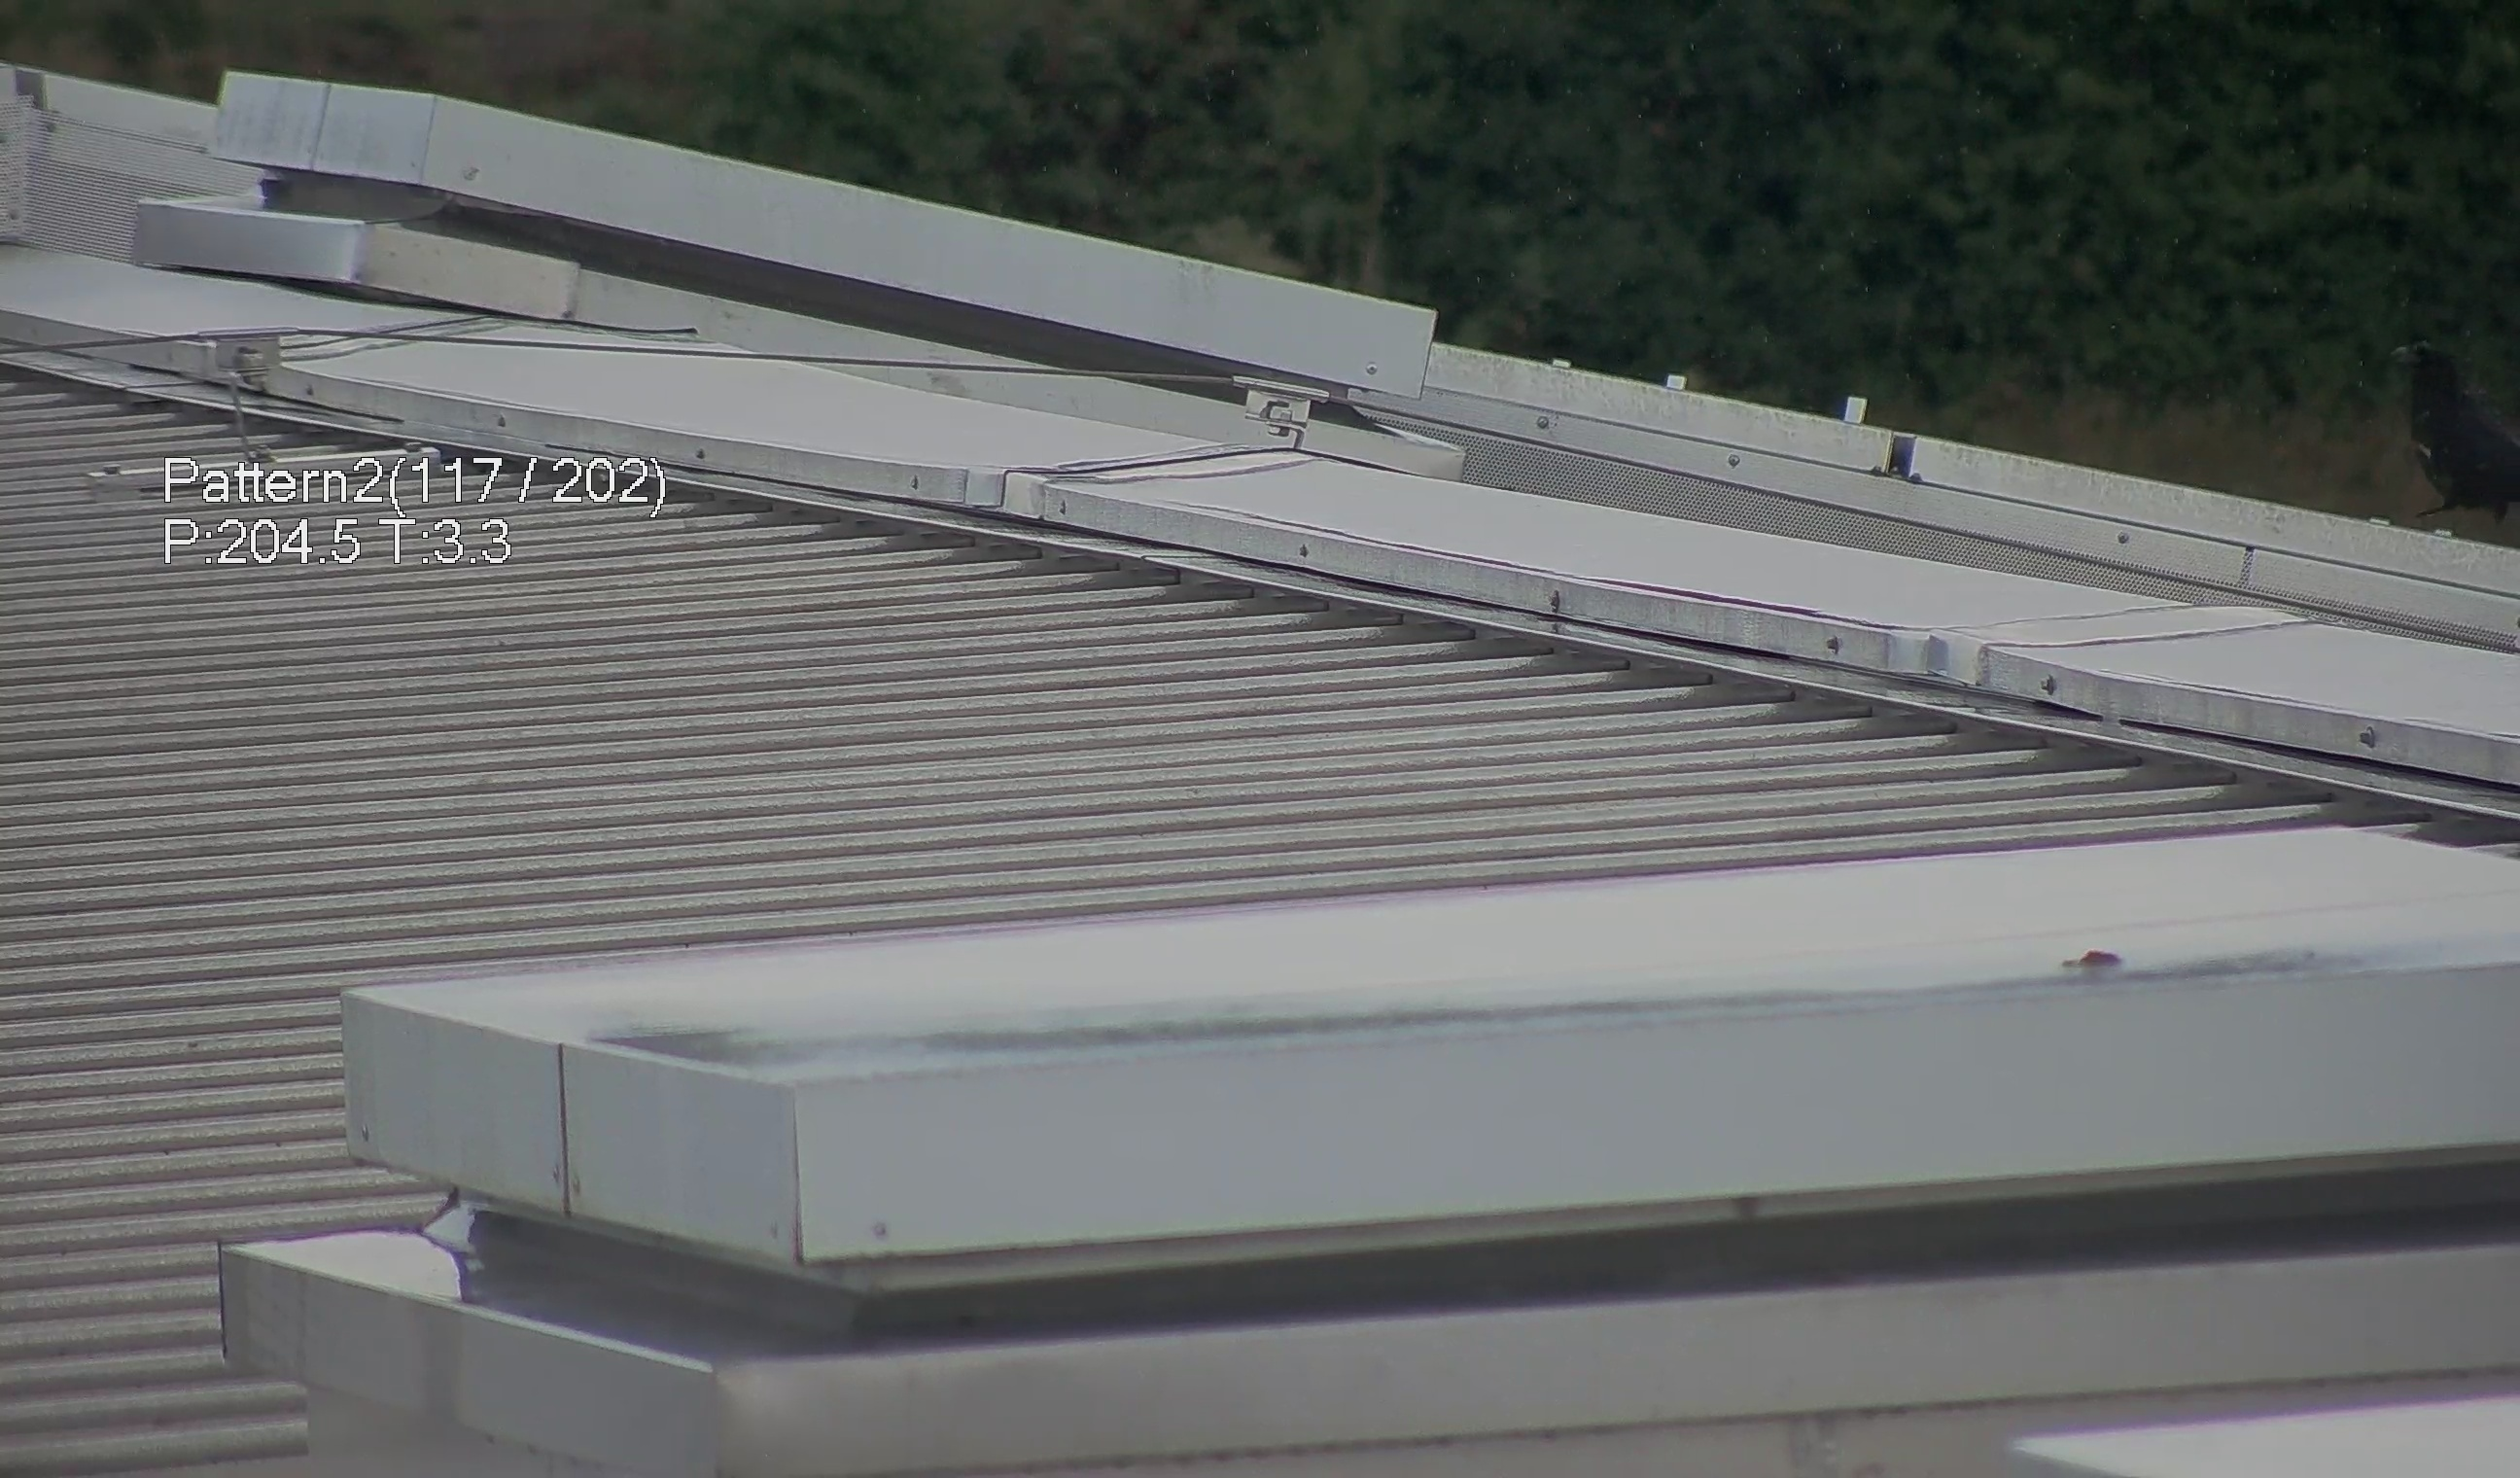Other: (2393, 331, 2520, 519)
